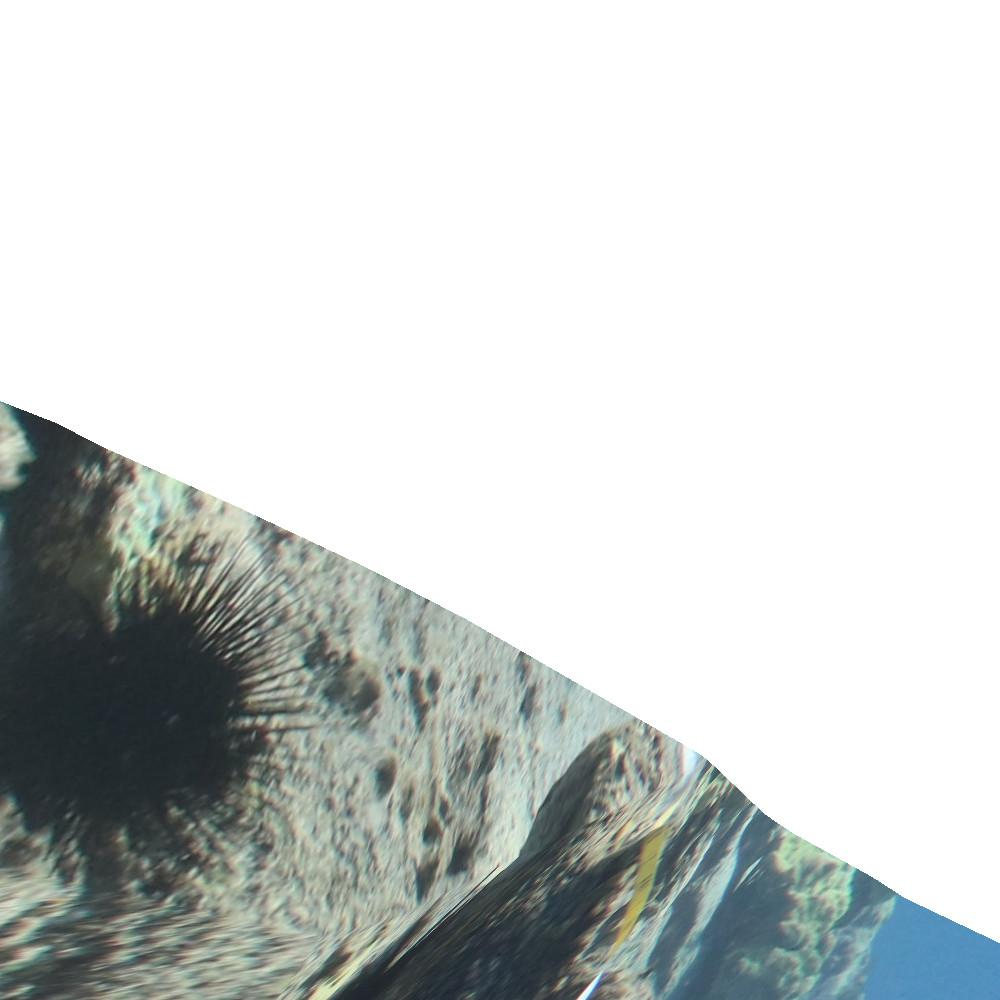diadema_paucispinum: (41, 528, 312, 883)
